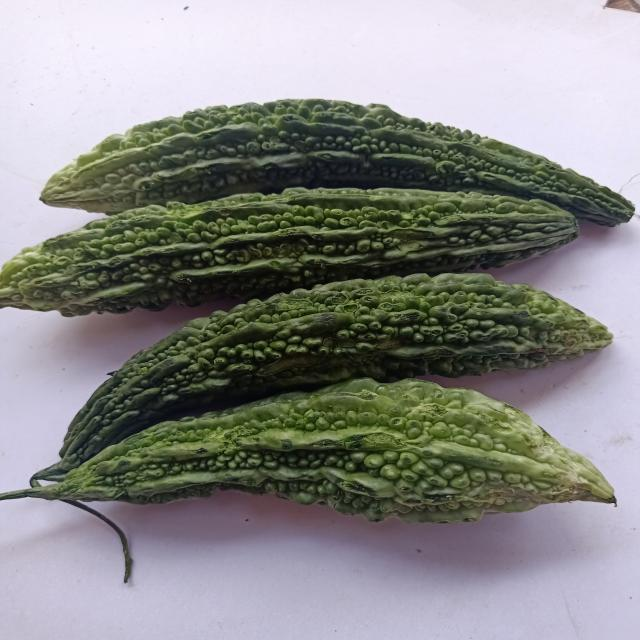Bitter Gourd: (37, 276, 618, 484), (27, 370, 623, 538), (31, 89, 639, 246), (0, 179, 600, 314)
